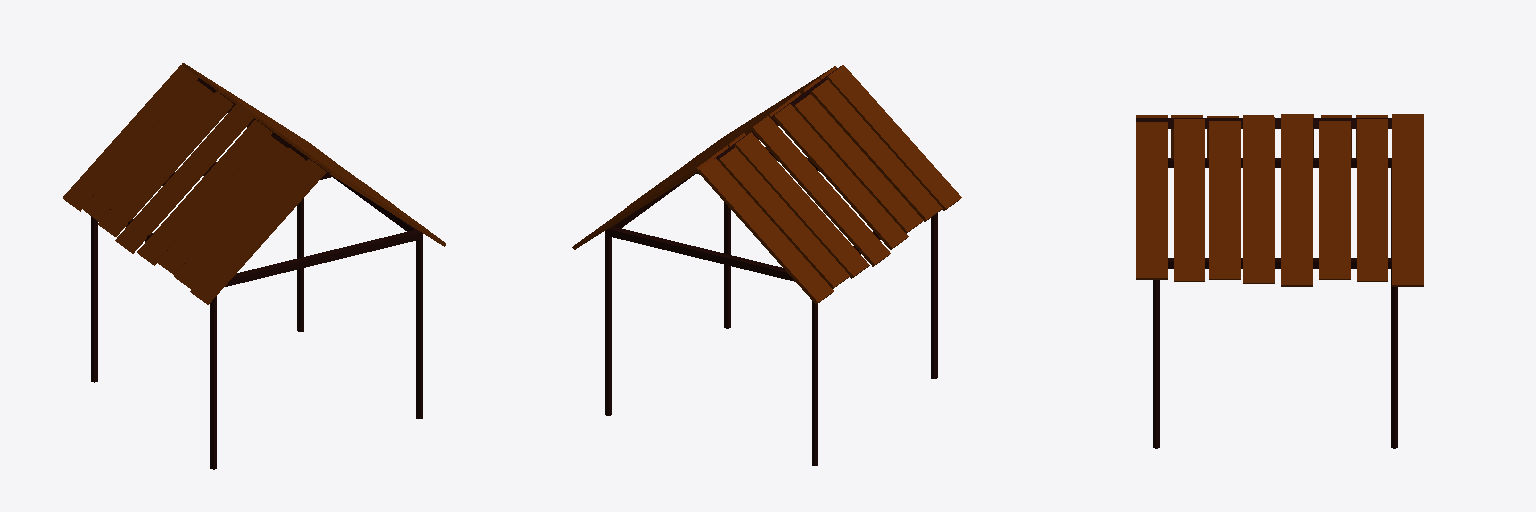
The model's file is Hut_A.obj.
3 views of the same model, side by side, from view 1: azimuth 30°, elevation 25°; view 2: azimuth 150°, elevation 25°; view 3: azimuth 270°, elevation 25° (orthographic).
Visible parts, largest first — view 1: Hut_A; view 2: Hut_A; view 3: Hut_A.
Part boxes in pixels (bbox=[...]): Hut_A: bbox=[63, 63, 445, 469]; Hut_A: bbox=[572, 65, 961, 465]; Hut_A: bbox=[1136, 114, 1423, 448].
Bounding box in the file's own units: 7.96 × 8.66 × 8.